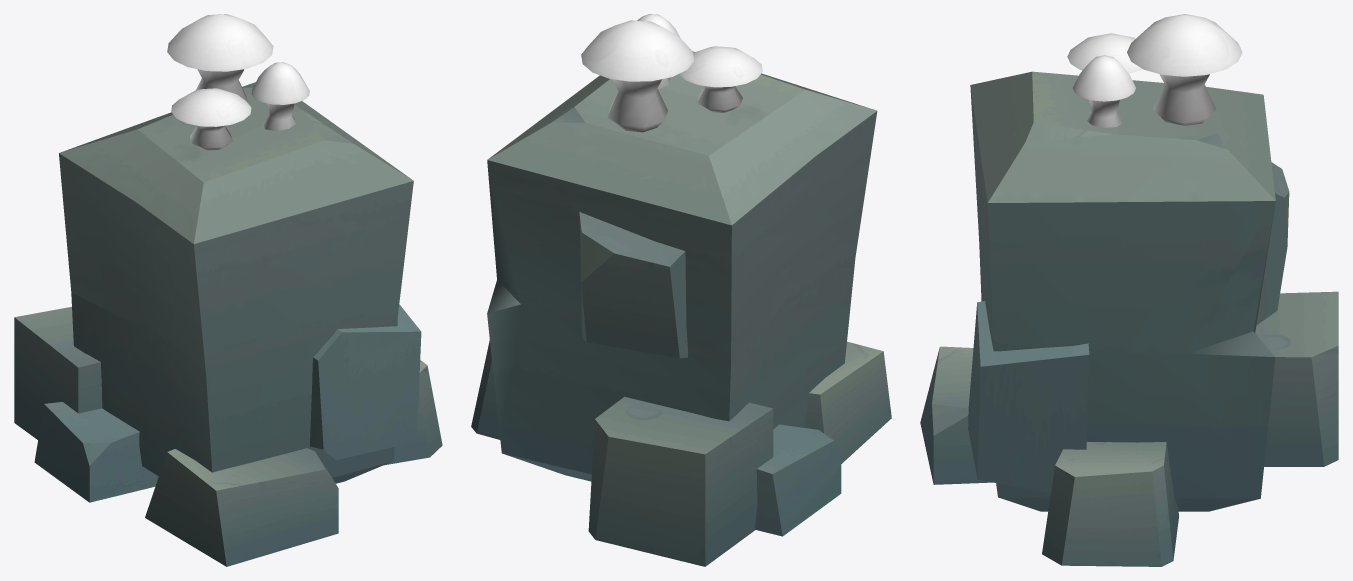
File: Pillar1B-003_02_17_5270.fbx
3 renders of one model, left to right at view 1: azimuth 30°, elevation 25°; view 2: azimuth 150°, elevation 25°; view 3: azimuth 270°, elevation 25°, orthographic. The views are drawn at different scales.
Parts seen in each view (by area): view 1: Monolith1, Shroom1 (2), Shroom1 (3), Shroom3 (2); view 2: Monolith1, Shroom1 (2), Shroom1 (3); view 3: Monolith1, Shroom1 (2), Shroom3 (2), Shroom1 (3).
Boxes of the visible parts, x1=… form: Monolith1: x1=14, y1=82, x2=442, y2=566; Shroom1 (2): x1=167, y1=14, x2=273, y2=102; Shroom1 (3): x1=171, y1=88, x2=251, y2=150; Shroom3 (2): x1=251, y1=62, x2=309, y2=131; Monolith1: x1=471, y1=51, x2=891, y2=566; Shroom1 (2): x1=581, y1=20, x2=694, y2=132; Shroom1 (3): x1=678, y1=46, x2=762, y2=112; Monolith1: x1=920, y1=71, x2=1338, y2=566; Shroom1 (2): x1=1127, y1=14, x2=1242, y2=125; Shroom3 (2): x1=1073, y1=55, x2=1135, y2=127; Shroom1 (3): x1=1067, y1=33, x2=1142, y2=73.
Size of the model in its own units: 2.55 by 3.22 by 2.61.
